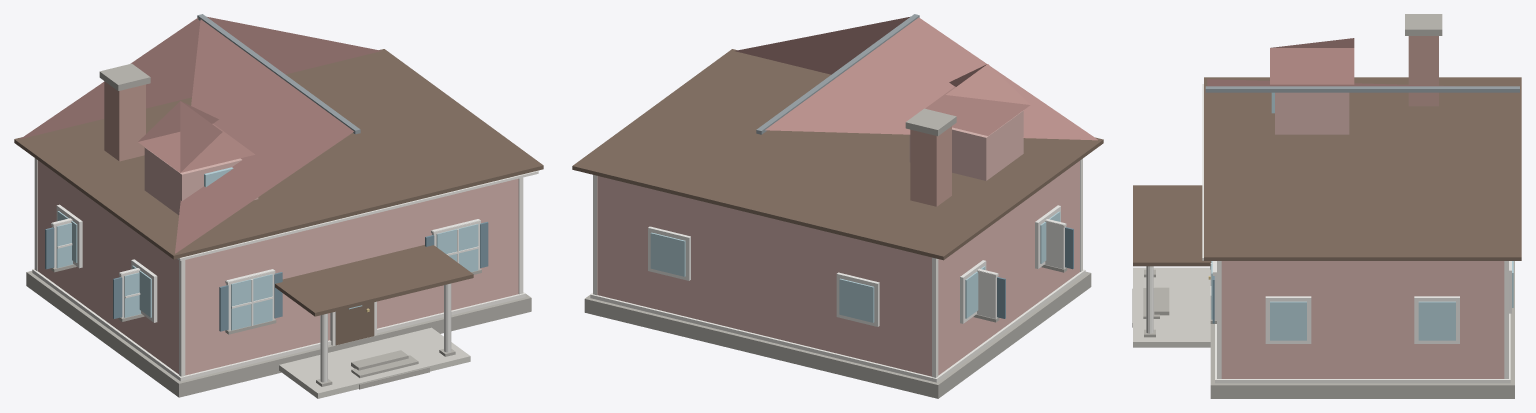
Rendered from house_rose.glb.
3 views of the same model, side by side, from view 1: azimuth 30°, elevation 25°; view 2: azimuth 150°, elevation 25°; view 3: azimuth 270°, elevation 25° (orthographic).
Parts seen in each view (by area): view 1: p004, p000, p003, p007, p001, p006, p073, p063, p002, p072, p020, p071 (+15 smaller); view 2: p000, p004, p003, p001, p073, p072, p063, p002, p062, p060, p005, p064 (+9 smaller); view 3: p004, p000, p007, p001, p006, p073, p072, p005, p063, p002, p056, p058 (+9 smaller).
Part boxes in pixels (<box>): p004: <box>14,49,543,259</box>; p000: <box>37,160,518,375</box>; p003: <box>20,17,381,253</box>; p007: <box>275,245,473,316</box>; p001: <box>26,271,531,397</box>; p006: <box>279,327,470,398</box>; p073: <box>138,101,254,172</box>; p063: <box>104,81,145,161</box>; p002: <box>32,268,525,381</box>; p072: <box>144,147,258,215</box>; p020: <box>231,274,272,330</box>; p071: <box>177,170,538,260</box>; p000: <box>597,161,1079,376</box>; p004: <box>572,49,1103,260</box>; p003: <box>735,16,1097,140</box>; p001: <box>584,271,1091,398</box>; p073: <box>925,64,1030,135</box>; p072: <box>909,110,1023,180</box>; p063: <box>910,126,951,206</box>; p002: <box>590,269,1085,382</box>; p062: <box>650,232,685,276</box>; p060: <box>839,278,874,322</box>; p005: <box>756,14,919,134</box>; p064: <box>905,108,956,136</box>; p004: <box>1204,77,1521,260</box>; p000: <box>1221,261,1504,378</box>; p007: <box>1133,185,1211,266</box>; p001: <box>1210,261,1514,398</box>; p006: <box>1133,267,1210,347</box>; p073: <box>1270,38,1354,84</box>; p072: <box>1275,92,1349,134</box>; p005: <box>1205,86,1519,92</box>; p063: <box>1408,36,1438,106</box>; p002: <box>1215,313,1510,383</box>; p056: <box>1418,301,1455,340</box>; p058: <box>1270,301,1306,340</box>.
Bounding box in the file's own units: 13.11 × 7.56 × 11.52.
